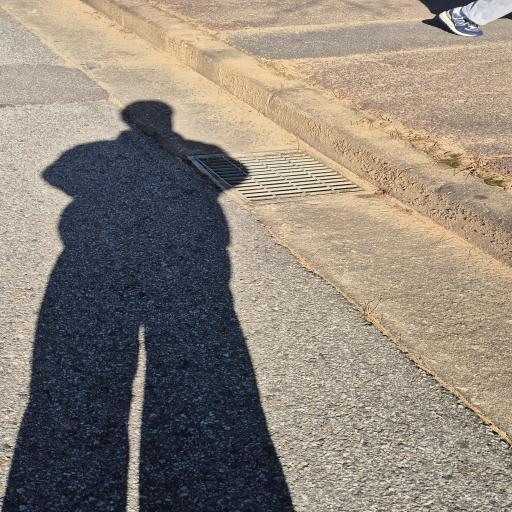drain: (187, 152, 362, 204)
